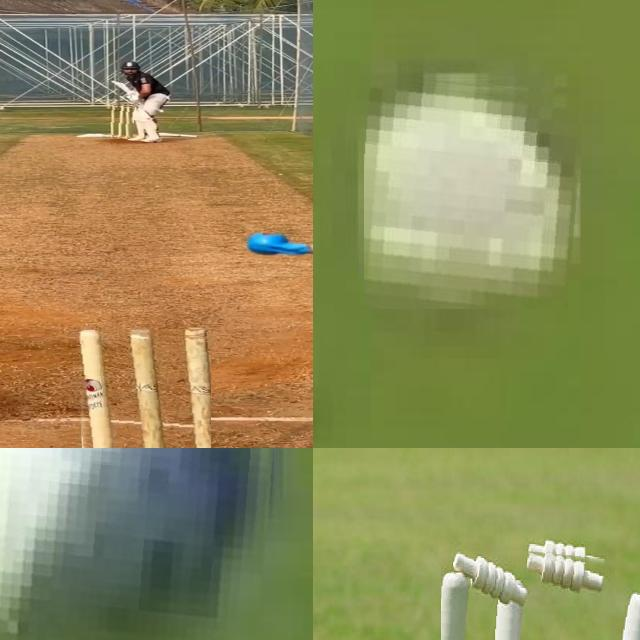Cricket ball: (0, 448, 286, 640), (364, 73, 585, 309)
Stumps: (440, 542, 640, 640), (71, 327, 211, 448), (108, 103, 135, 139)
